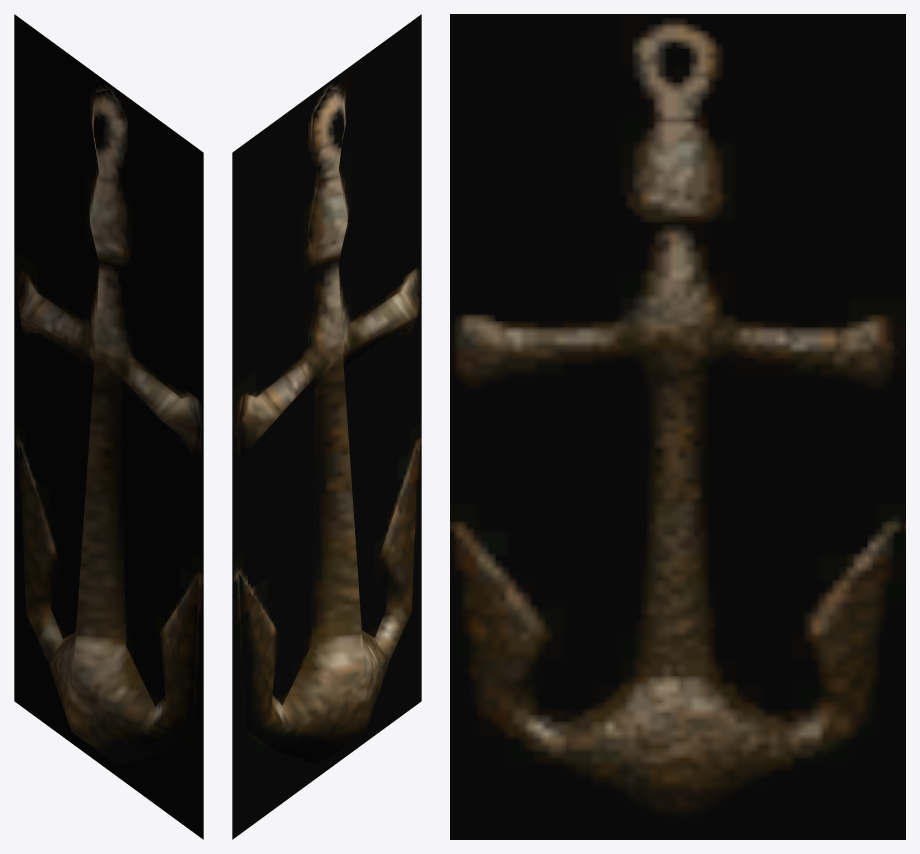
The model's file is INST_LT_ANCHOR.fbx.
3 renders of one model, left to right at view 1: azimuth 30°, elevation 25°; view 2: azimuth 150°, elevation 25°; view 3: azimuth 270°, elevation 25°, orthographic. The views are drawn at different scales.
Visible parts, largest first — view 1: INST_LT_ANCHOR; view 2: INST_LT_ANCHOR; view 3: INST_LT_ANCHOR.
Boxes of the visible parts, x1,y1,x2,y2 form: INST_LT_ANCHOR: (14, 14, 203, 839); INST_LT_ANCHOR: (232, 14, 421, 839); INST_LT_ANCHOR: (450, 14, 905, 839).
Bounding box in the file's own units: 673 × 11463 × 5732.
Materials: 1 (1 with a texture image).
